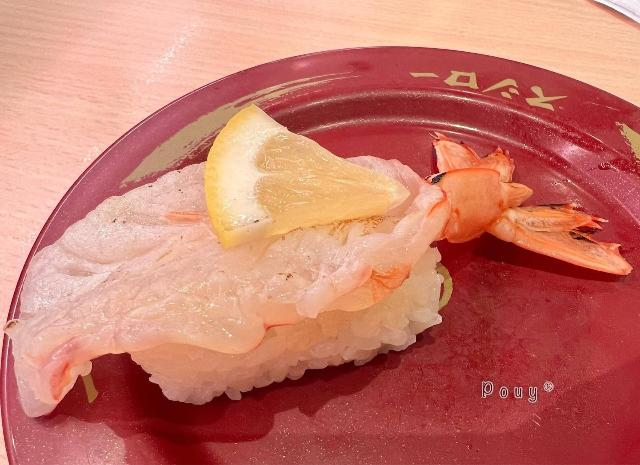janred: (90, 70, 628, 465)
